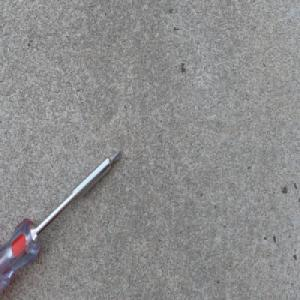Screwdriver: (0, 147, 123, 294)
